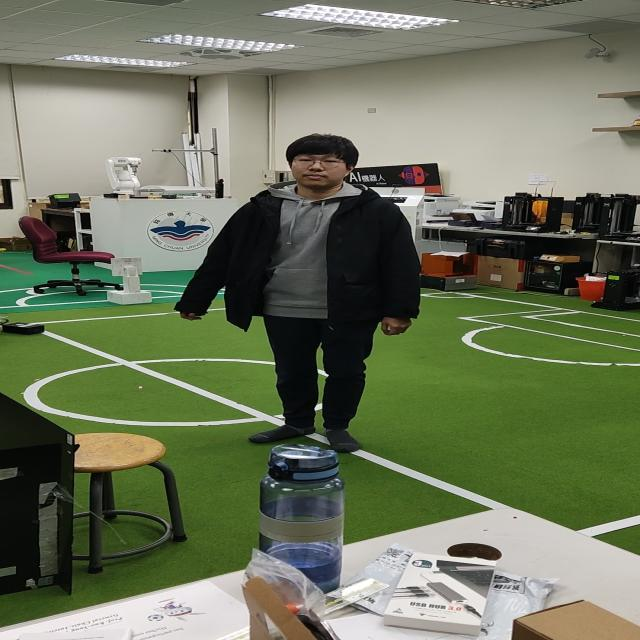person: (176, 125, 436, 442)
